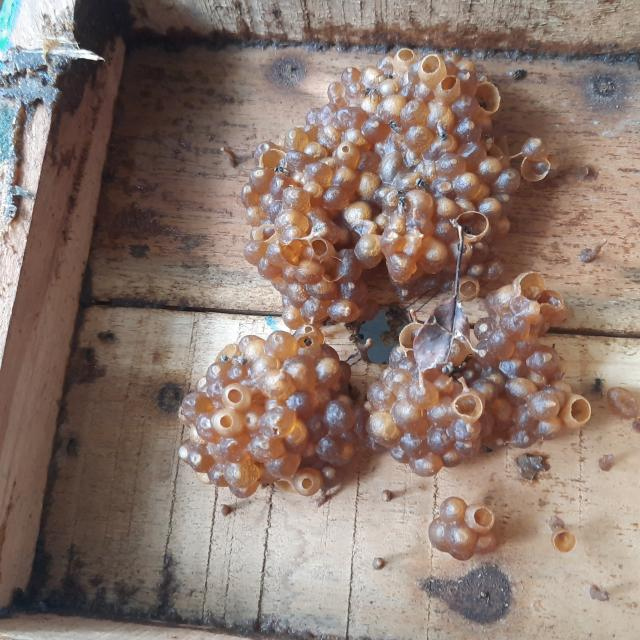honeybee: (585, 372, 607, 400), (392, 187, 414, 214), (384, 117, 406, 143), (360, 86, 388, 106), (434, 119, 452, 143), (270, 162, 292, 181), (442, 361, 464, 380), (372, 72, 394, 86), (413, 174, 426, 190), (349, 330, 364, 343)
